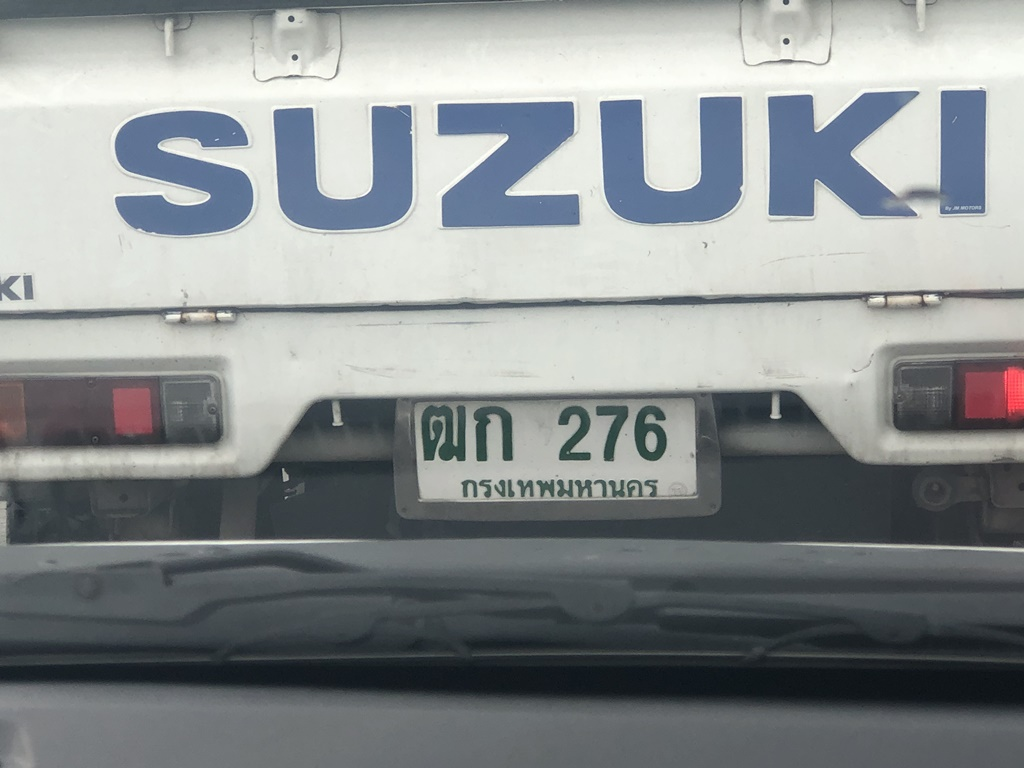plate: (399, 384, 716, 512)
six: (625, 393, 677, 471)
